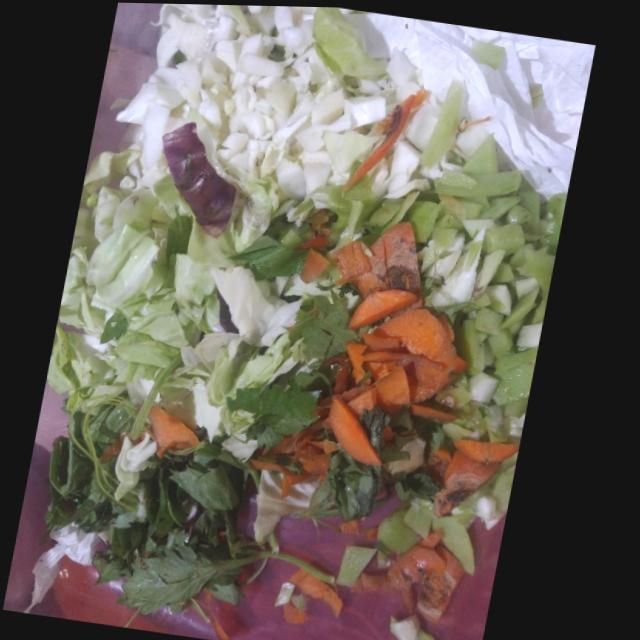biowaste: (373, 76, 570, 430), (256, 404, 525, 620), (116, 3, 399, 196), (51, 177, 242, 439), (50, 405, 279, 613), (335, 218, 473, 463), (211, 264, 367, 461), (164, 121, 240, 236)
